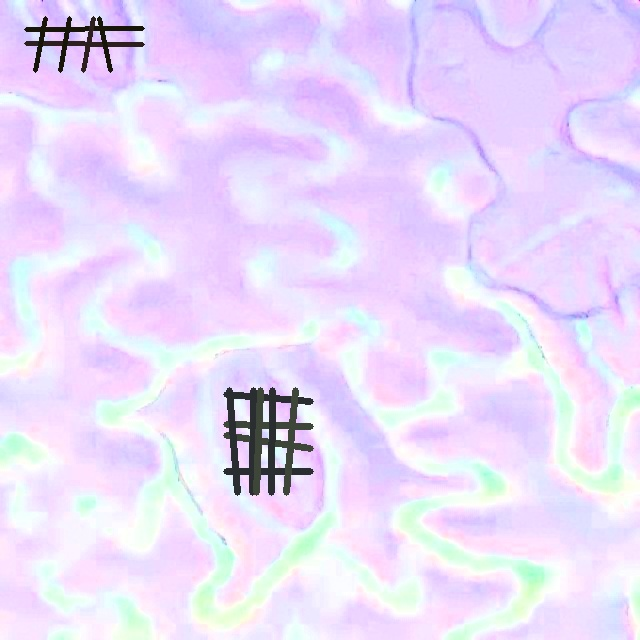open: (224, 387, 312, 495), (25, 17, 143, 72)
